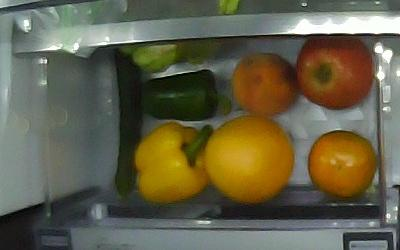apple: (296, 37, 373, 109)
cucumber: (109, 44, 141, 201)
grapefruit: (204, 115, 294, 204)
lettuce: (117, 41, 223, 65)
paprika: (134, 122, 213, 204), (142, 69, 231, 121)
peach: (232, 53, 298, 115)
persimmon: (308, 129, 375, 199)
